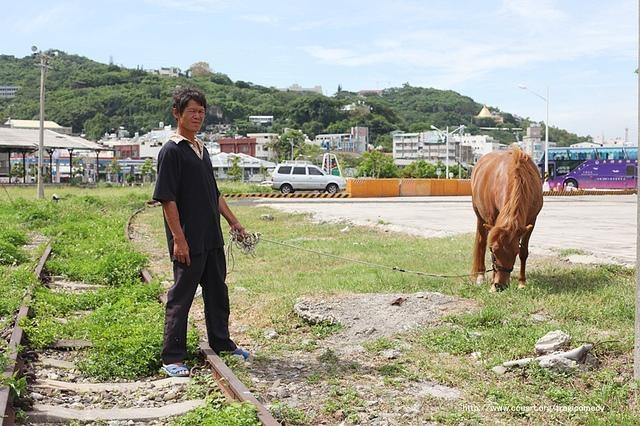bus: (536, 147, 638, 191)
car: (268, 162, 346, 194)
